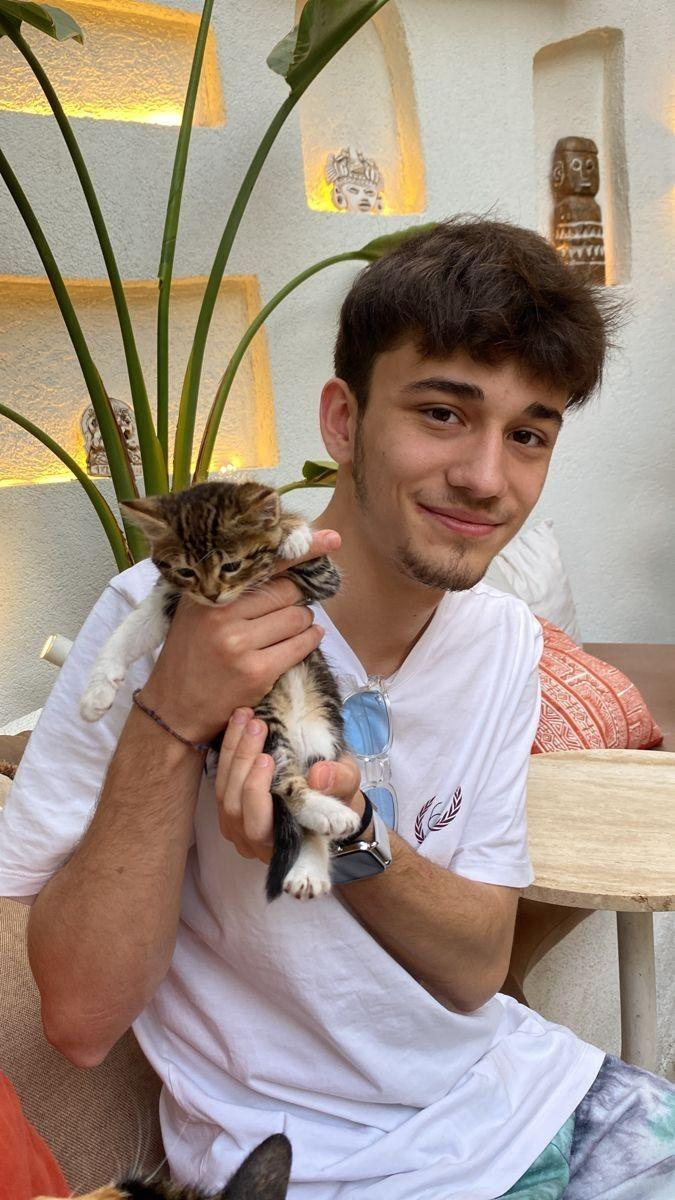kedo: (120, 481, 310, 609)
